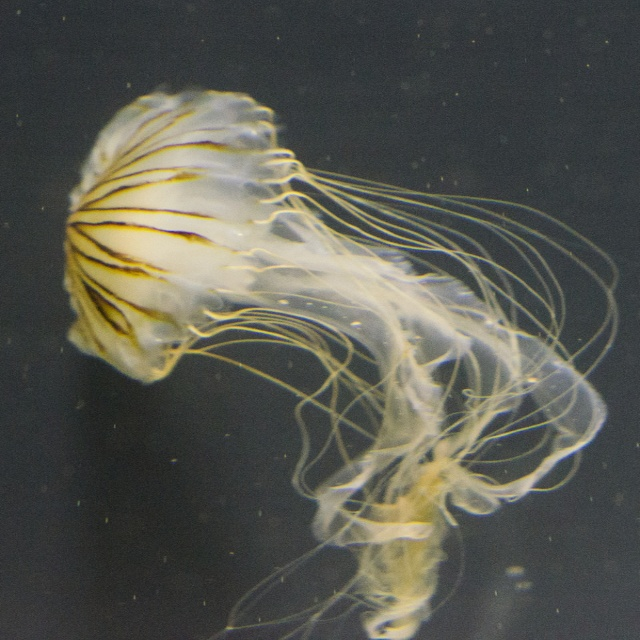Jellyfish: (61, 89, 623, 640)
